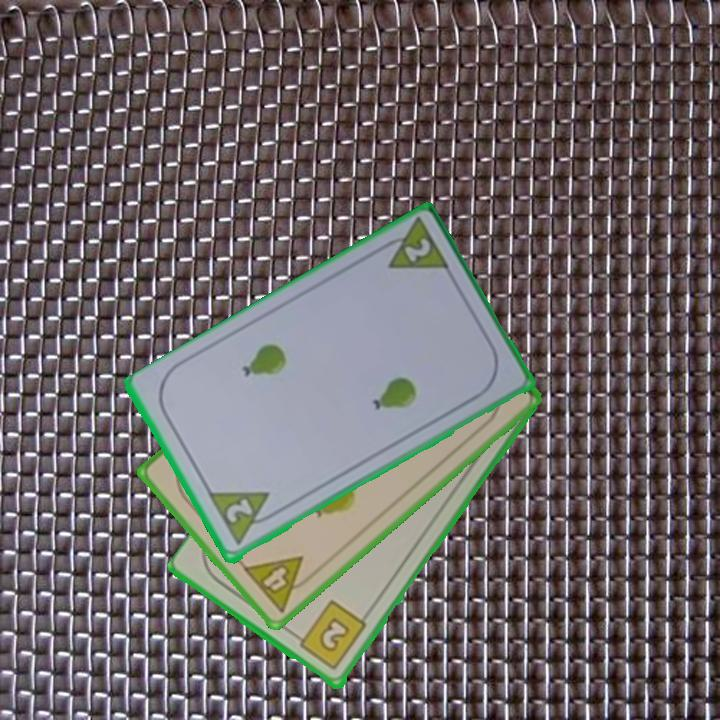2b: (290, 597, 370, 674)
2p: (372, 216, 453, 275), (222, 495, 256, 527)
4p: (239, 552, 320, 616)
